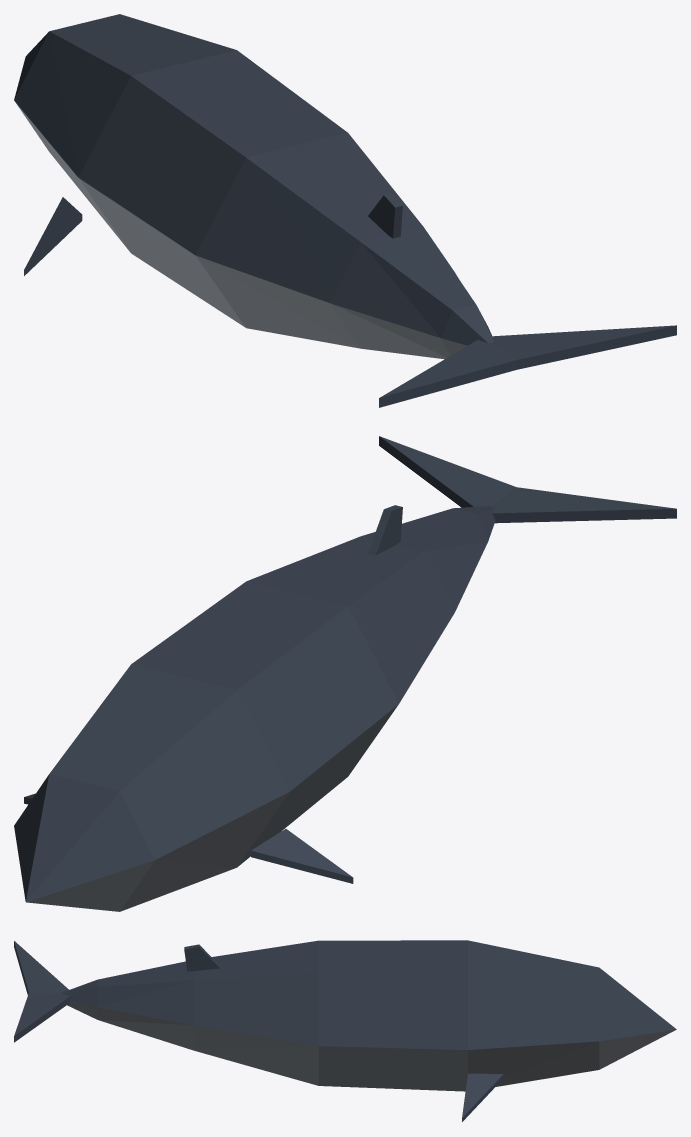
File: whale.glb
3 views of the same model, one above another, from view 1: azimuth 30°, elevation 25°; view 2: azimuth 150°, elevation 25°; view 3: azimuth 270°, elevation 25° (orthographic). The views are drawn at different scales.
Visible parts, largest first — view 1: whale; view 2: whale; view 3: whale.
Boxes of the visible parts, x1=… form: whale: x1=14, y1=14, x2=676, y2=407; whale: x1=14, y1=436, x2=676, y2=911; whale: x1=14, y1=940, x2=676, y2=1121.
Bounding box in the file's own units: 4.2 × 2.38 × 11.1.
